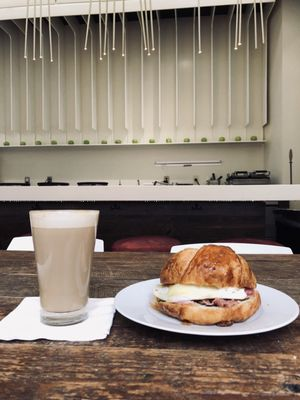pizza: (29, 209, 99, 327)
soup: (151, 243, 261, 326)
